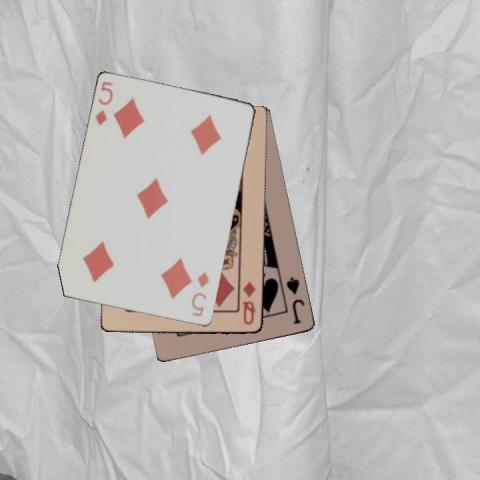5d: (188, 269, 211, 319), (92, 79, 115, 128)
Js: (283, 274, 306, 326)
Qd: (240, 279, 258, 326)
